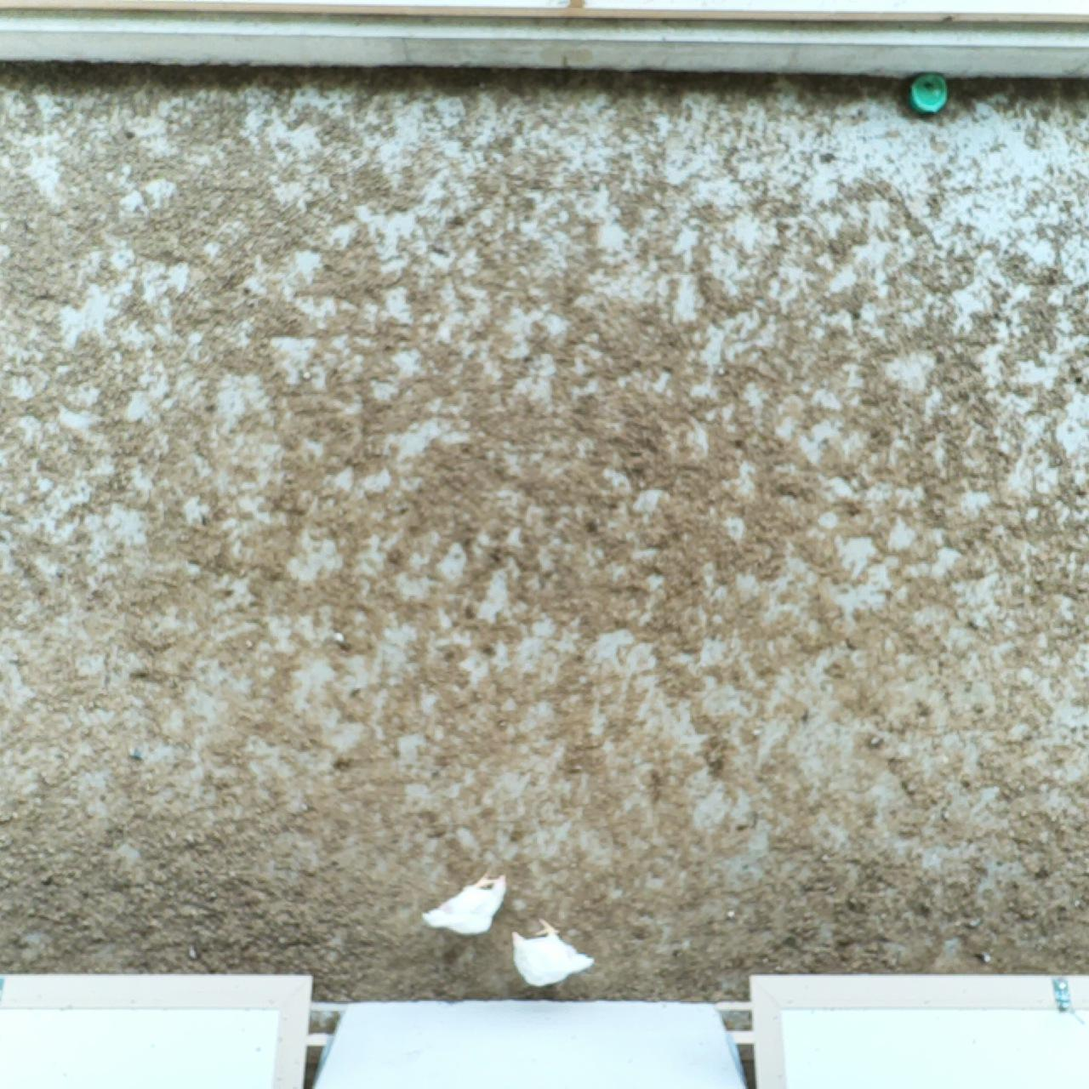chicken: (422, 866, 509, 940), (509, 914, 596, 984)
